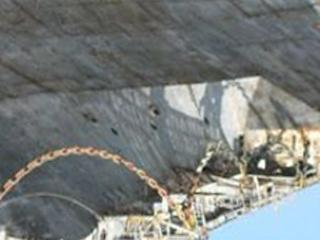rust: (2, 145, 169, 202), (292, 114, 320, 162)
